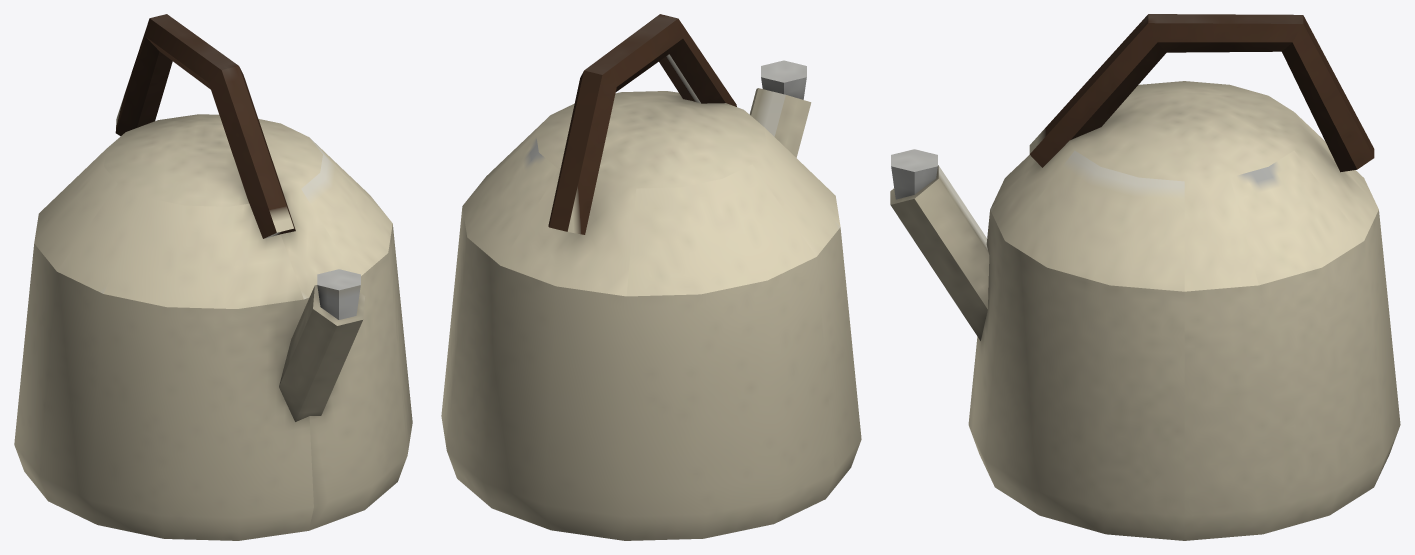
Rendered from H_Kettle.fbx.
The picture shows the model from 3 angles, left to right: view 1: azimuth 30°, elevation 25°; view 2: azimuth 150°, elevation 25°; view 3: azimuth 270°, elevation 25°; orthographic projection. The views are drawn at different scales.
Parts seen in each view (by area): view 1: H_Kettle; view 2: H_Kettle; view 3: H_Kettle.
Boxes of the visible parts, bbox=[...] form: H_Kettle: bbox=[14, 14, 412, 540]; H_Kettle: bbox=[441, 14, 861, 540]; H_Kettle: bbox=[890, 14, 1400, 540].
Size of the model in its own units: 80 by 89.02 by 94.46.
1 material, 1 textured.
